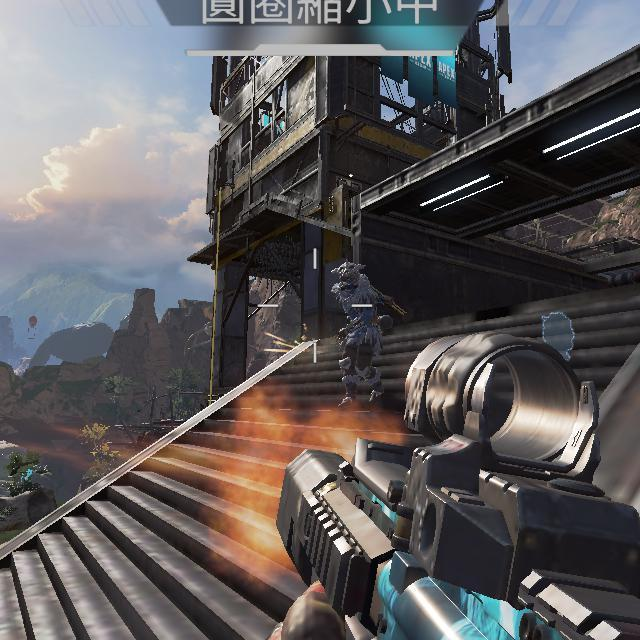avatar: (327, 259, 386, 411)
